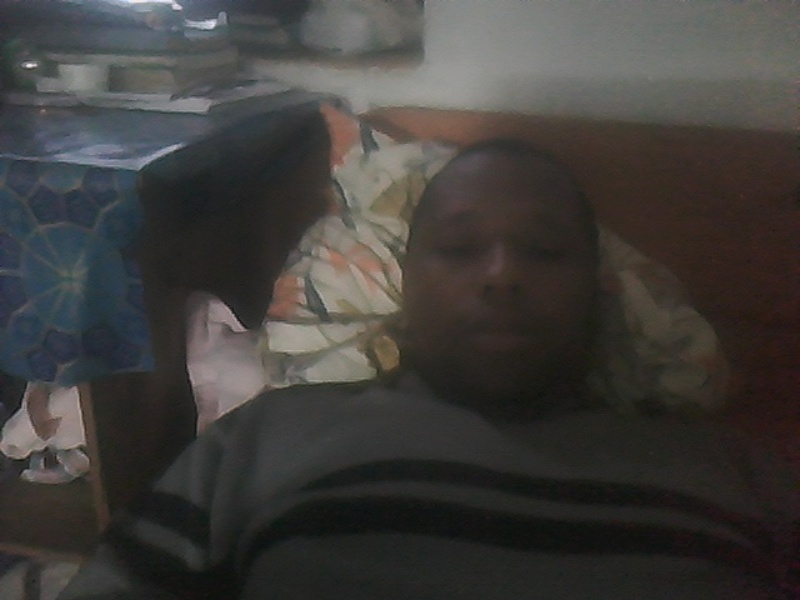TsisyArotava: (403, 146, 600, 405)
